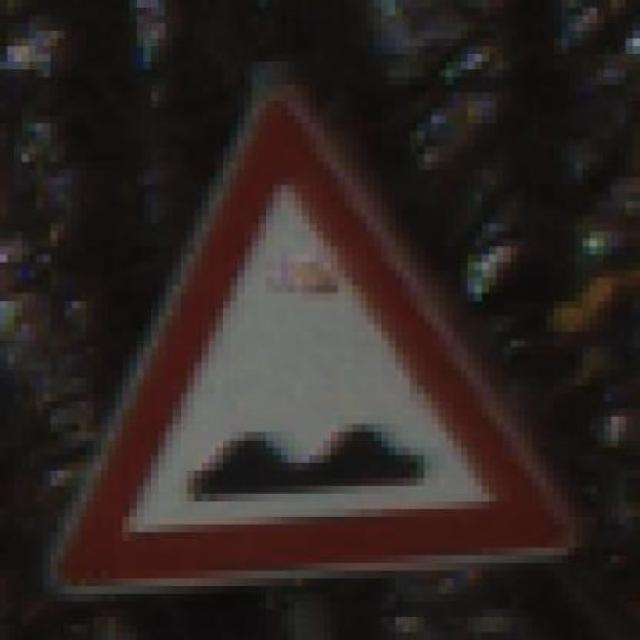Uneven Road: (49, 84, 582, 594)
